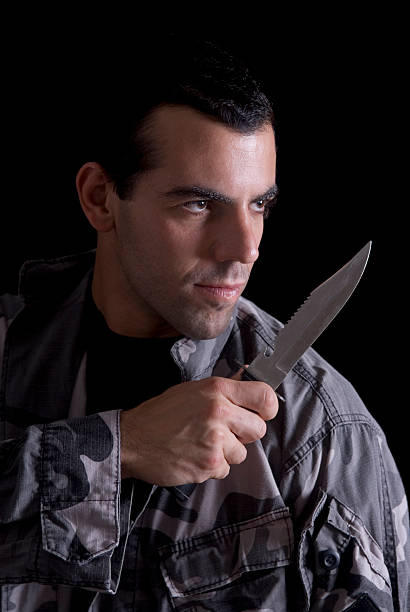knife: (238, 235, 375, 396)
